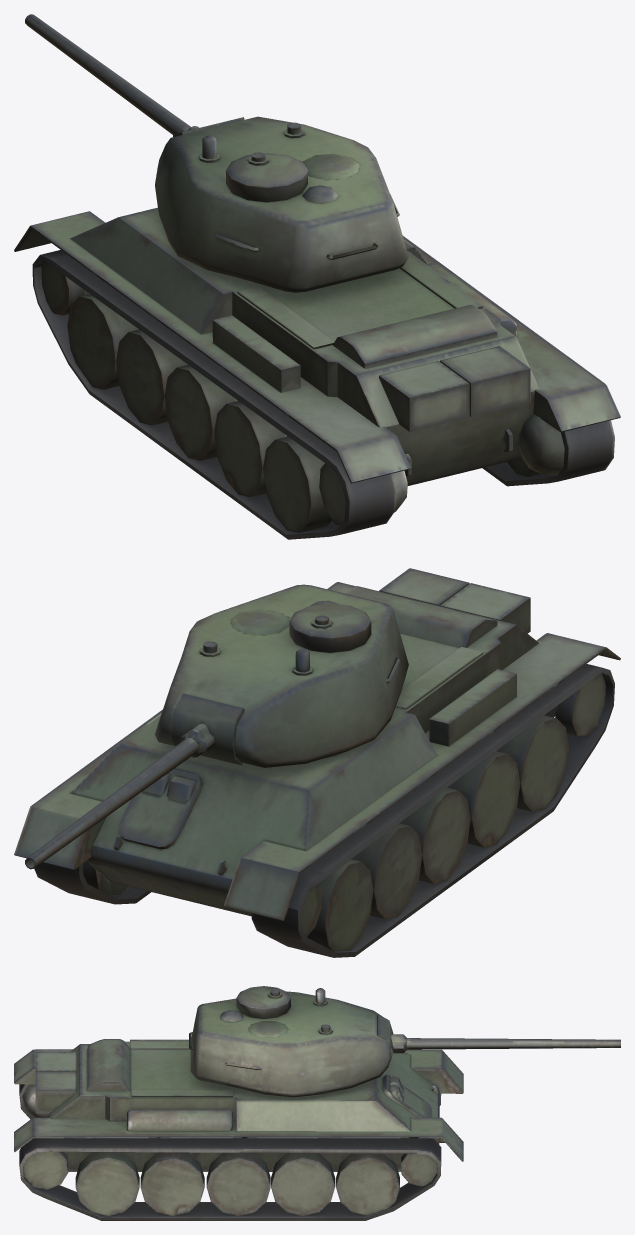
3 renders of one model, top to bottom at view 1: azimuth 30°, elevation 25°; view 2: azimuth 150°, elevation 25°; view 3: azimuth 270°, elevation 25°, orthographic. The views are drawn at different scales.
Parts seen in each view (by area): view 1: T-43 Hull, T-43 Turret; view 2: T-43 Hull, T-43 Turret; view 3: T-43 Hull, T-43 Turret.
Boxes of the visible parts, x1,y1,x2,y2 form: T-43 Hull: [14, 207, 620, 539]; T-43 Turret: [25, 14, 408, 292]; T-43 Hull: [14, 568, 620, 957]; T-43 Turret: [25, 584, 408, 869]; T-43 Hull: [14, 1039, 463, 1220]; T-43 Turret: [189, 986, 620, 1097].
Bounding box in the file's own units: 3 × 2.81 × 8.81.
